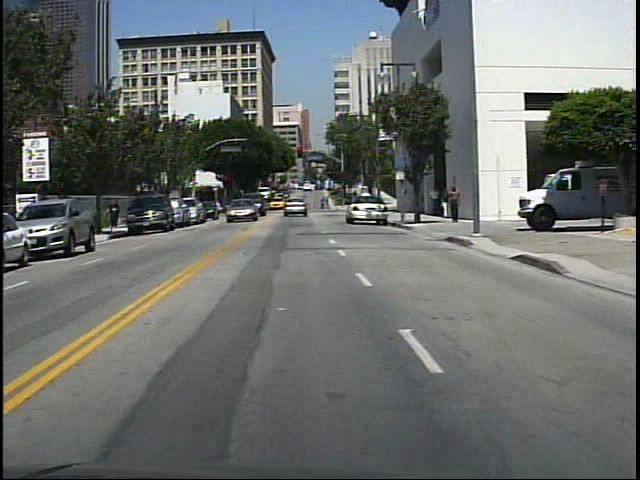person: (446, 182, 462, 224), (109, 197, 124, 231), (429, 186, 442, 217), (212, 197, 226, 220), (440, 189, 450, 220)
